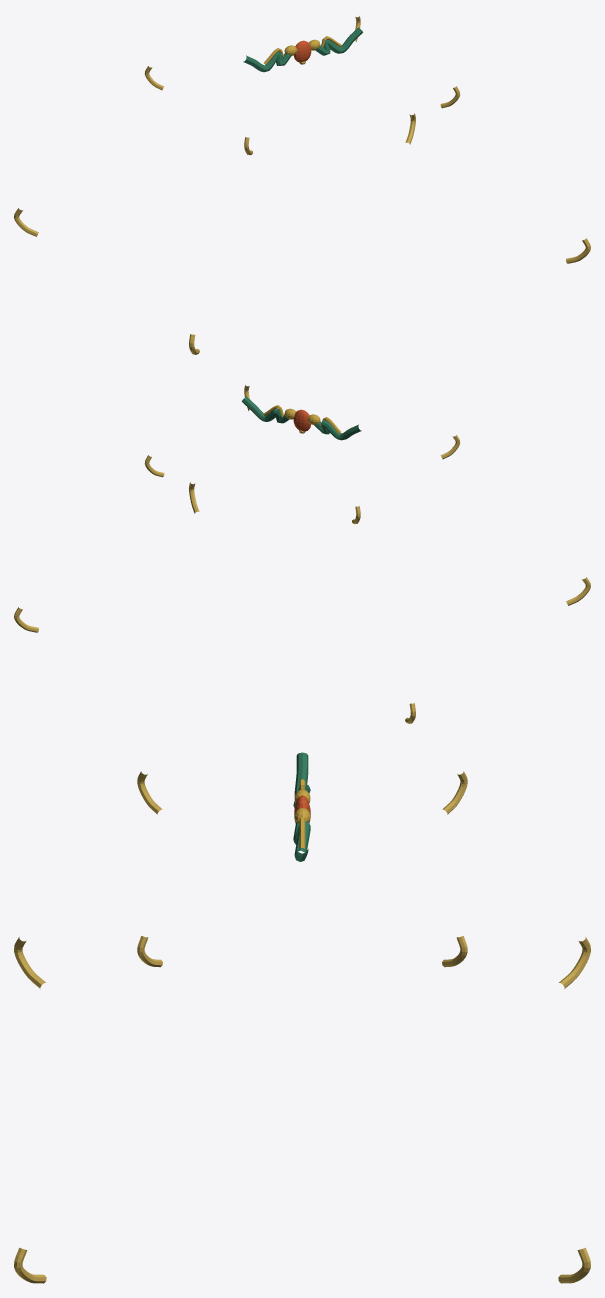
Rendered from gate-cuahau-hero.glb.
The picture shows the model from 3 angles, top to bottom: view 1: azimuth 30°, elevation 25°; view 2: azimuth 150°, elevation 25°; view 3: azimuth 270°, elevation 25°; orthographic projection. The views are drawn at different scales.
Visible parts, largest first — view 1: gate_cuahau_hero; view 2: gate_cuahau_hero; view 3: gate_cuahau_hero.
Part boxes in pixels (x1=…): gate_cuahau_hero: x1=14, y1=16, x2=590, y2=354; gate_cuahau_hero: x1=14, y1=385, x2=590, y2=723; gate_cuahau_hero: x1=14, y1=752, x2=590, y2=1283.
Size of the model in its own units: 10.31 by 5.13 by 7.91.
